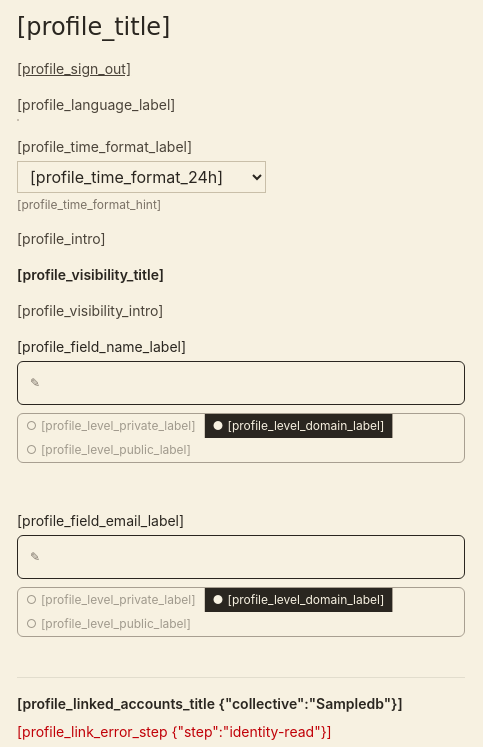
Test: #205 — /profile confirm and cancel › blur CONFIRMS: same flush, editor closes back to display
Expected: the element with test id "profile-field-name" is shown, [17, 337, 465, 487]
Click the button "✎" below "[profile_field_name_label]" at (112, 392), box [17, 361, 465, 405]
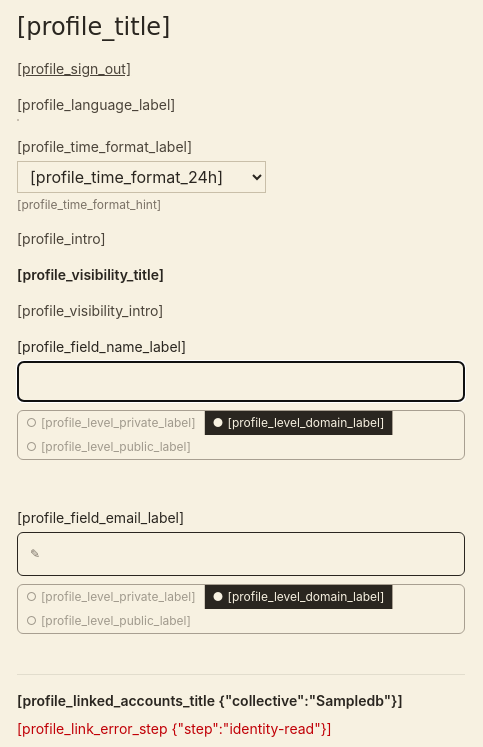
Type "Ada" into the field labelled "[profile_field_name_label]" at (241, 381), box [17, 361, 465, 402]
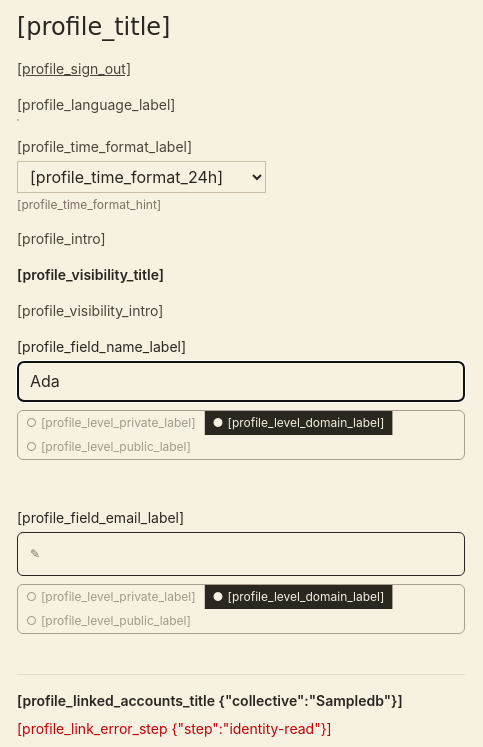
Leave the field labelled "[profile_field_name_label]", box [17, 361, 465, 402]
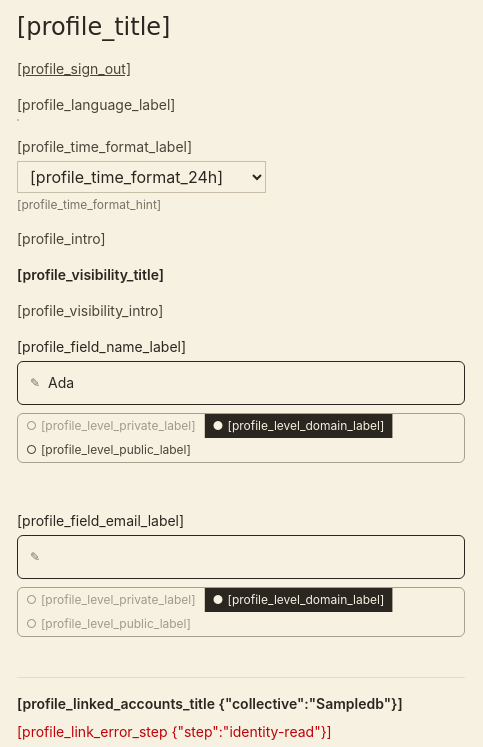
Now the element showing "Ada" is shown, box [48, 374, 74, 391]
